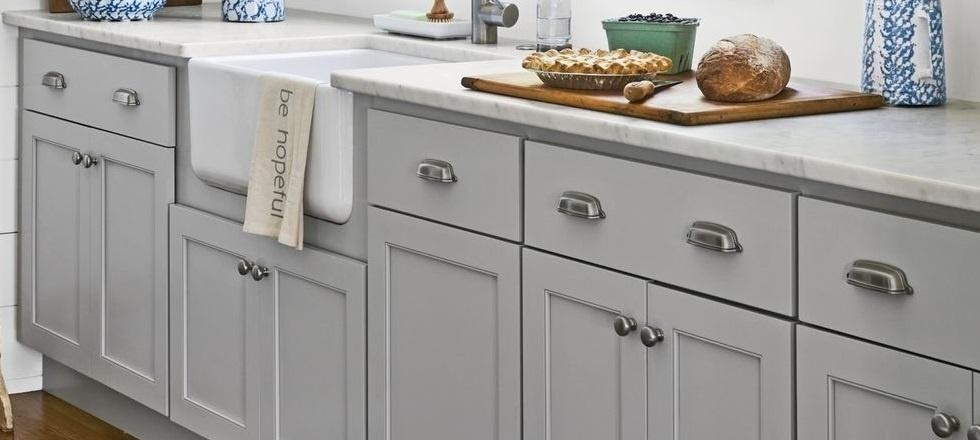cabinet_door: (375, 218, 523, 438), (527, 172, 781, 279), (532, 272, 651, 440), (801, 226, 979, 336), (642, 304, 785, 440), (262, 257, 359, 440), (174, 235, 260, 437), (90, 141, 157, 384), (10, 136, 79, 370), (802, 350, 965, 440), (373, 128, 515, 215), (28, 55, 171, 126)
handle: (680, 221, 746, 258), (552, 190, 611, 225), (415, 160, 459, 188), (634, 320, 668, 352), (927, 412, 962, 440), (109, 87, 145, 112), (606, 314, 637, 341), (42, 68, 72, 94), (252, 262, 277, 284), (231, 257, 252, 281), (83, 151, 104, 174), (67, 147, 87, 169)
